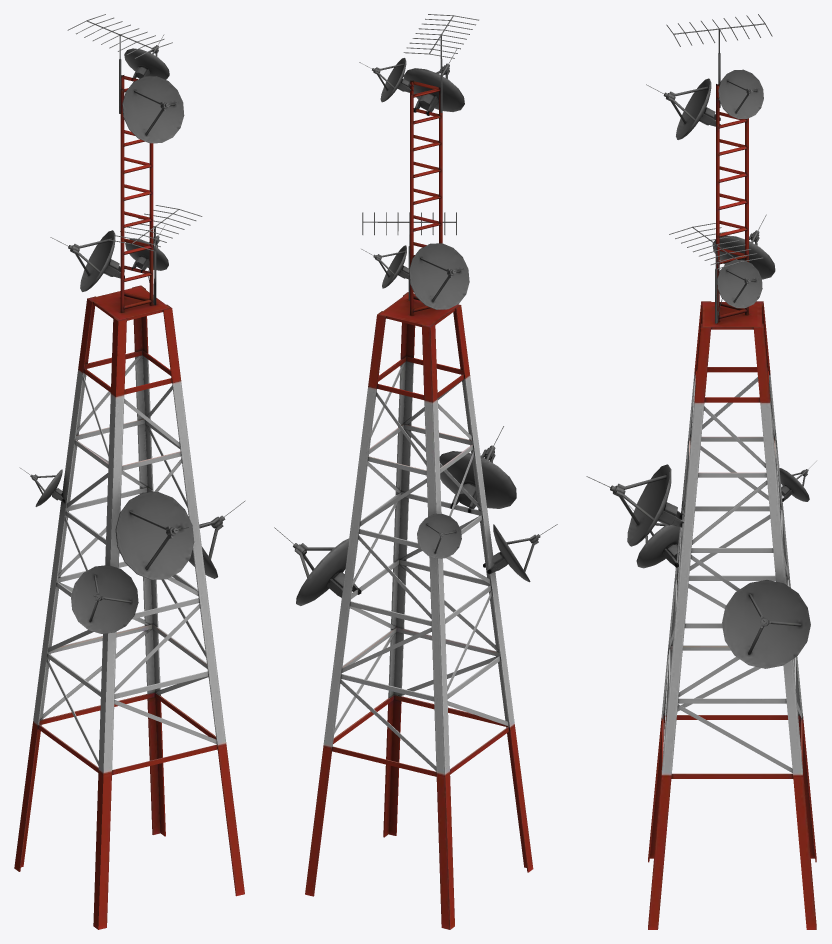
The picture shows the model from 3 angles, left to right: view 1: azimuth 30°, elevation 25°; view 2: azimuth 150°, elevation 25°; view 3: azimuth 270°, elevation 25°; orthographic projection.
Parts seen in each view (by area): view 1: body0_model0_lod0_mesh0; view 2: body0_model0_lod0_mesh0; view 3: body0_model0_lod0_mesh0.
Boxes of the visible parts, x1=… form: body0_model0_lod0_mesh0: x1=14, y1=14, x2=245, y2=929; body0_model0_lod0_mesh0: x1=274, y1=14, x2=557, y2=929; body0_model0_lod0_mesh0: x1=586, y1=14, x2=816, y2=929.
Bounding box in the file's own units: 408 × 1516 × 370.
1 material, 1 textured.
